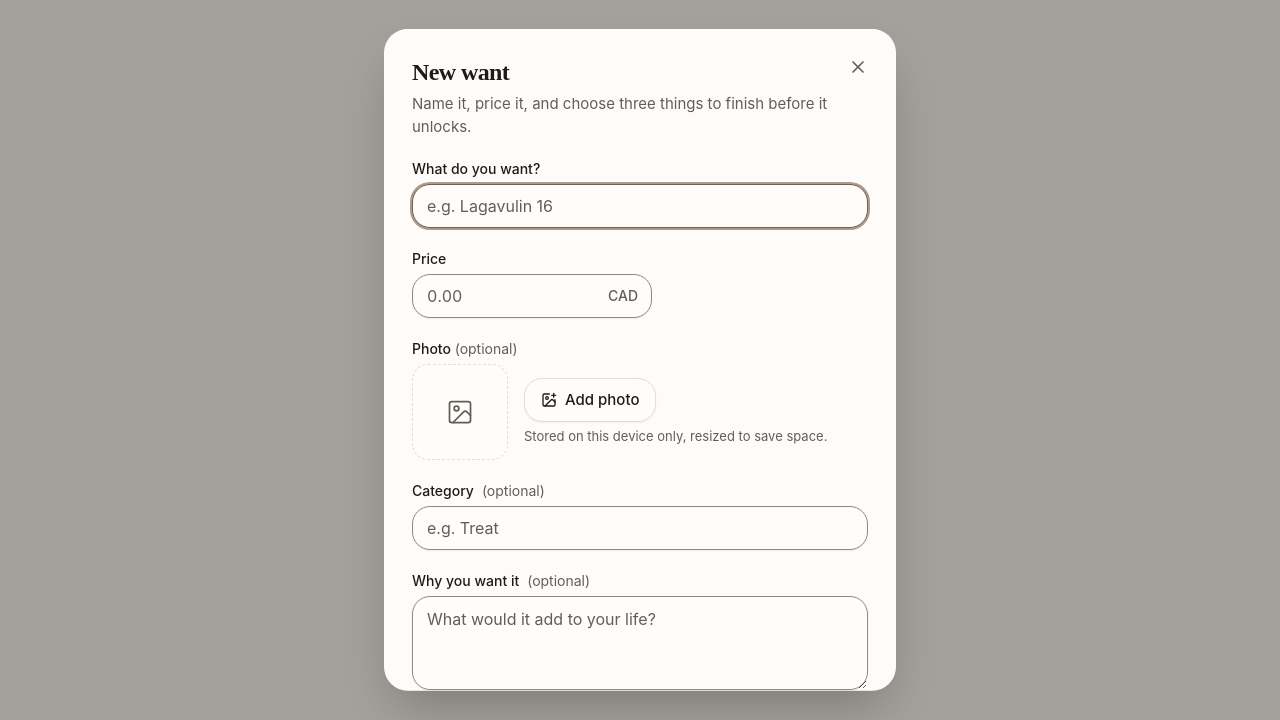
Scenario: WantFormDialog › flags an invalid price and summarises several errors
Type "12.345" into the field labelled "Price".
click(532, 296); type("12.345")  # box [412, 274, 652, 318]
(page scrolled)
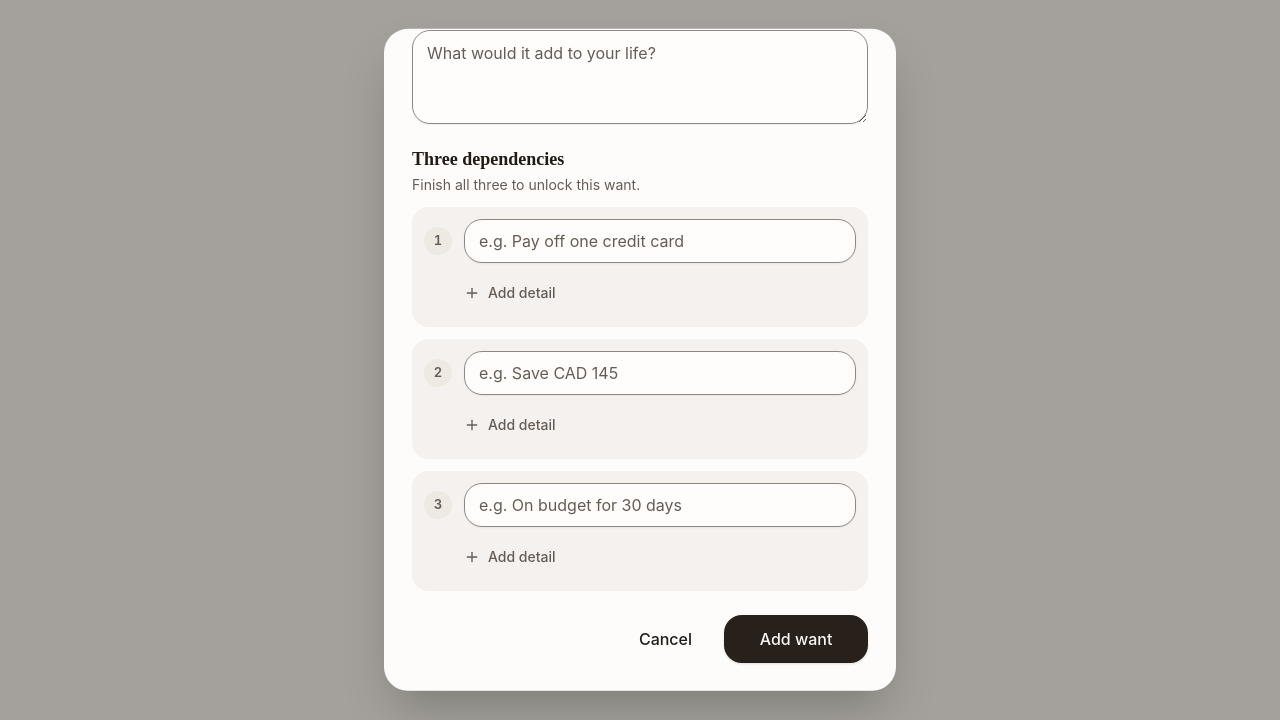
Click the button "Add want".
click(796, 638)  # box [724, 614, 868, 662]
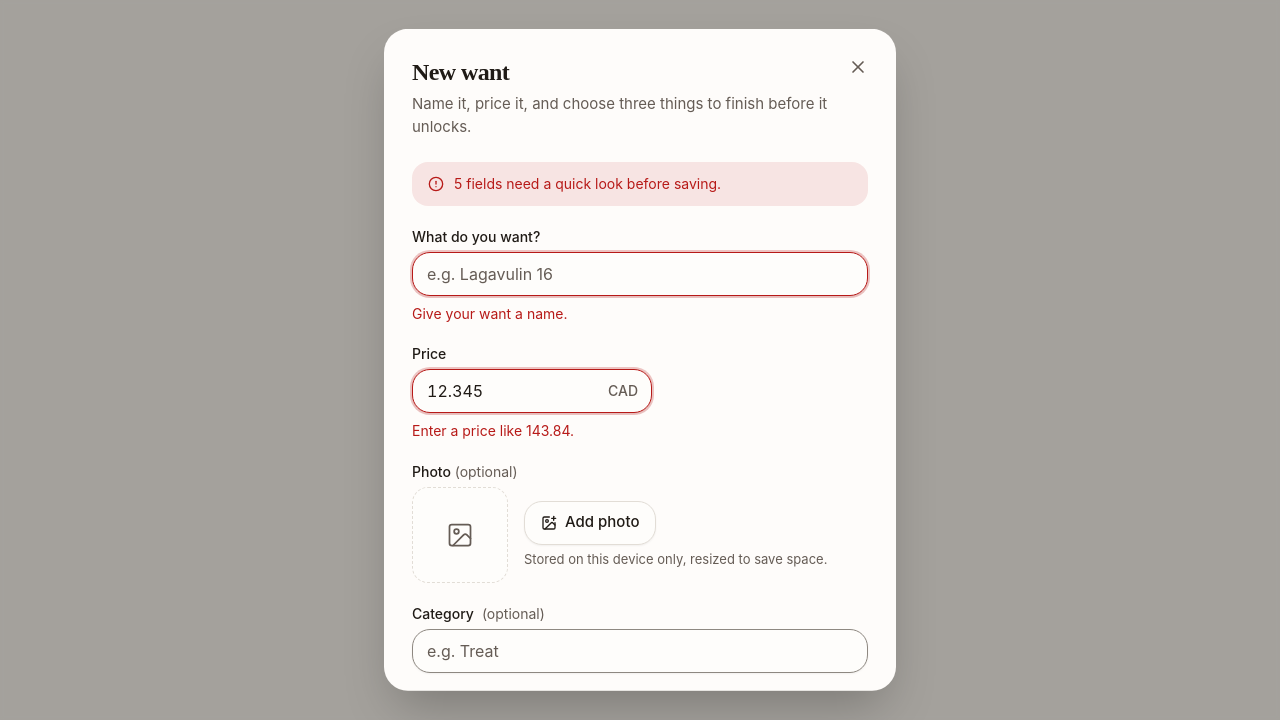
Now the message reads "5 fields need a quick look before saving.", box [412, 162, 868, 206]
